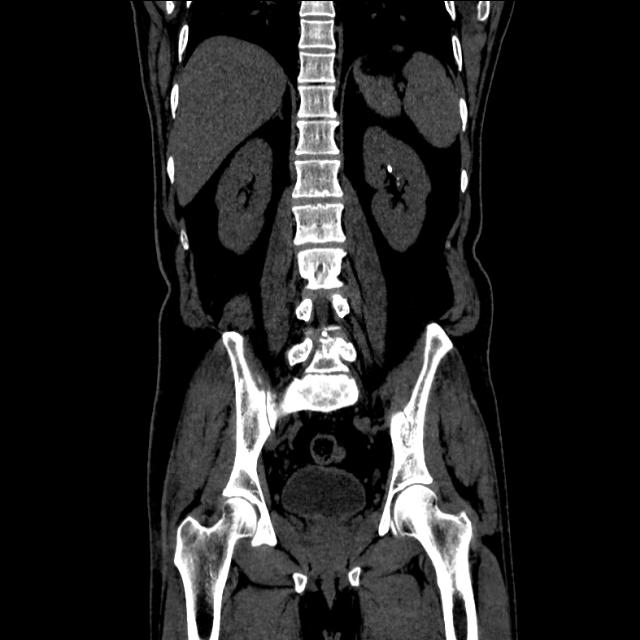kidney: (360, 124, 428, 245), (232, 147, 266, 249)
stone: (387, 165, 392, 172)
